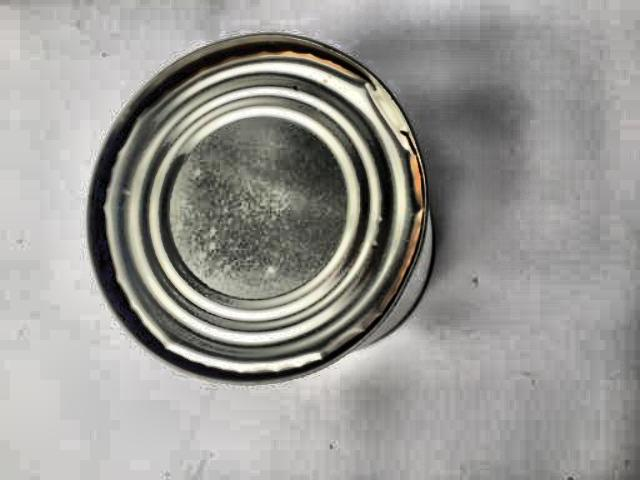Almennt: (65, 31, 462, 385)
